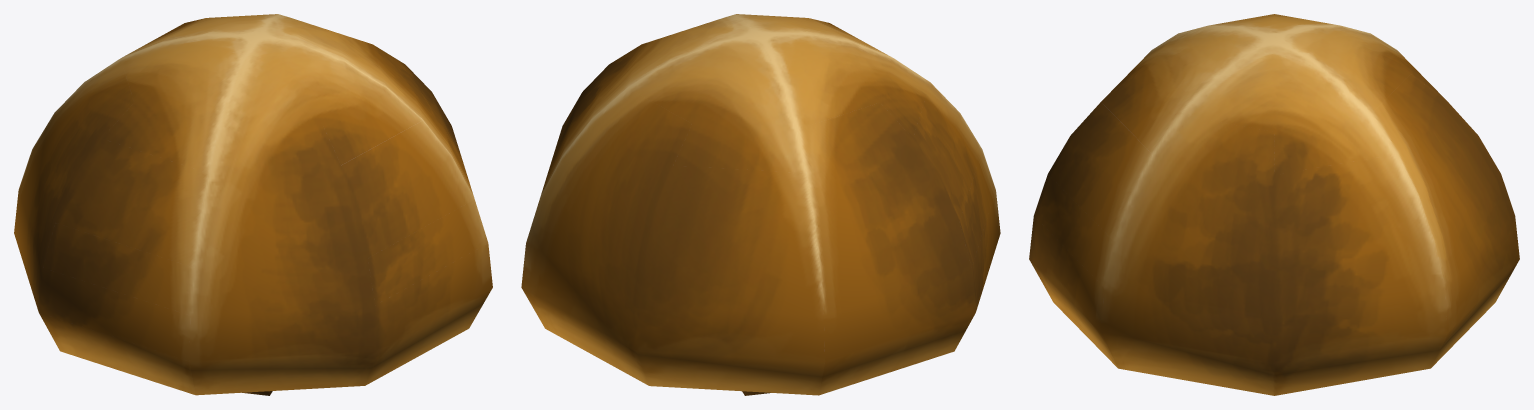
Rendered from small_tree (shade smooth).fbx.
3 renders of one model, left to right at view 1: azimuth 30°, elevation 25°; view 2: azimuth 150°, elevation 25°; view 3: azimuth 270°, elevation 25°, orthographic.
Visible parts, largest first — view 1: Sphere; view 2: Sphere; view 3: Sphere.
Part boxes in pixels (x1,y1,x2,y2): Sphere: [14, 14, 492, 395]; Sphere: [521, 14, 1000, 395]; Sphere: [1029, 14, 1519, 395].
Size of the model in its own units: 232 by 180 by 232.
Materials: 2 (2 with a texture image).
